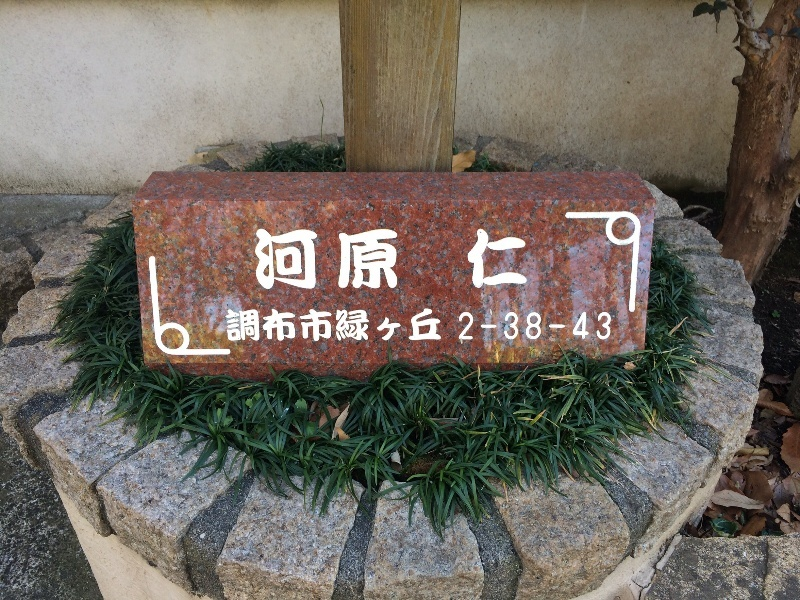text: (257, 228, 272, 291), (273, 228, 288, 291), (289, 228, 304, 291), (305, 228, 320, 291), (321, 228, 336, 291), (337, 228, 352, 291), (353, 228, 368, 291), (369, 228, 384, 291), (481, 227, 496, 290), (497, 227, 512, 290), (513, 227, 528, 290), (385, 228, 399, 291), (467, 227, 480, 290), (241, 309, 256, 343), (257, 309, 272, 343), (273, 309, 288, 343), (289, 309, 304, 343), (305, 309, 320, 343), (321, 309, 336, 343), (337, 309, 352, 343), (353, 309, 368, 343), (369, 309, 384, 343), (385, 309, 400, 343), (401, 309, 416, 343), (417, 309, 432, 343), (226, 309, 240, 343), (465, 311, 480, 341), (481, 311, 496, 341), (497, 311, 512, 341), (513, 311, 528, 341), (529, 311, 544, 341), (545, 311, 560, 341), (561, 311, 576, 341), (577, 311, 592, 341), (593, 311, 608, 341), (433, 309, 441, 343), (459, 311, 464, 341), (609, 311, 612, 341), (255, 228, 256, 291)
